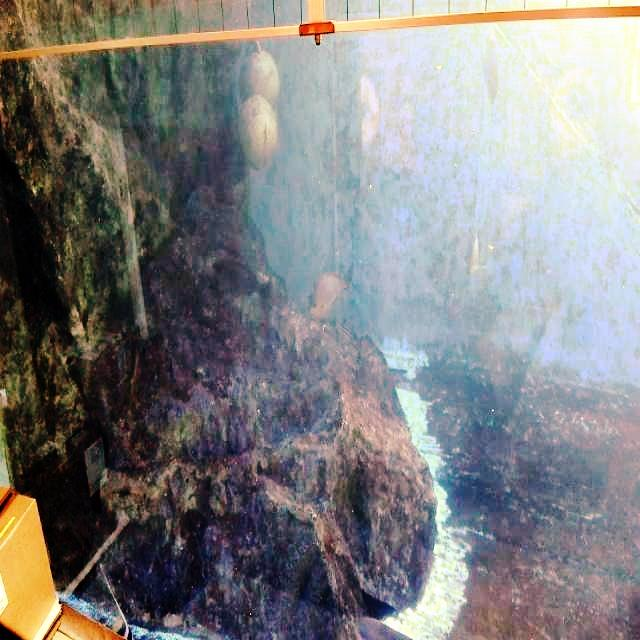Plectorhinchus lessonii: (332, 310, 364, 356)
gold snapper: (304, 253, 354, 320)
